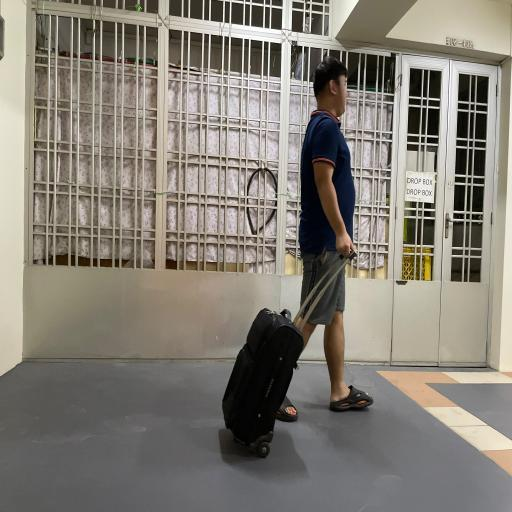person_right: (215, 39, 380, 474)
